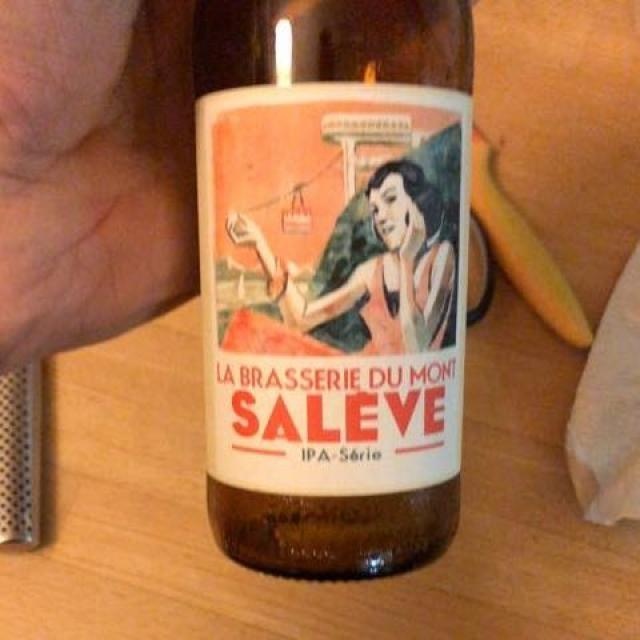beer: (198, 16, 459, 565)
